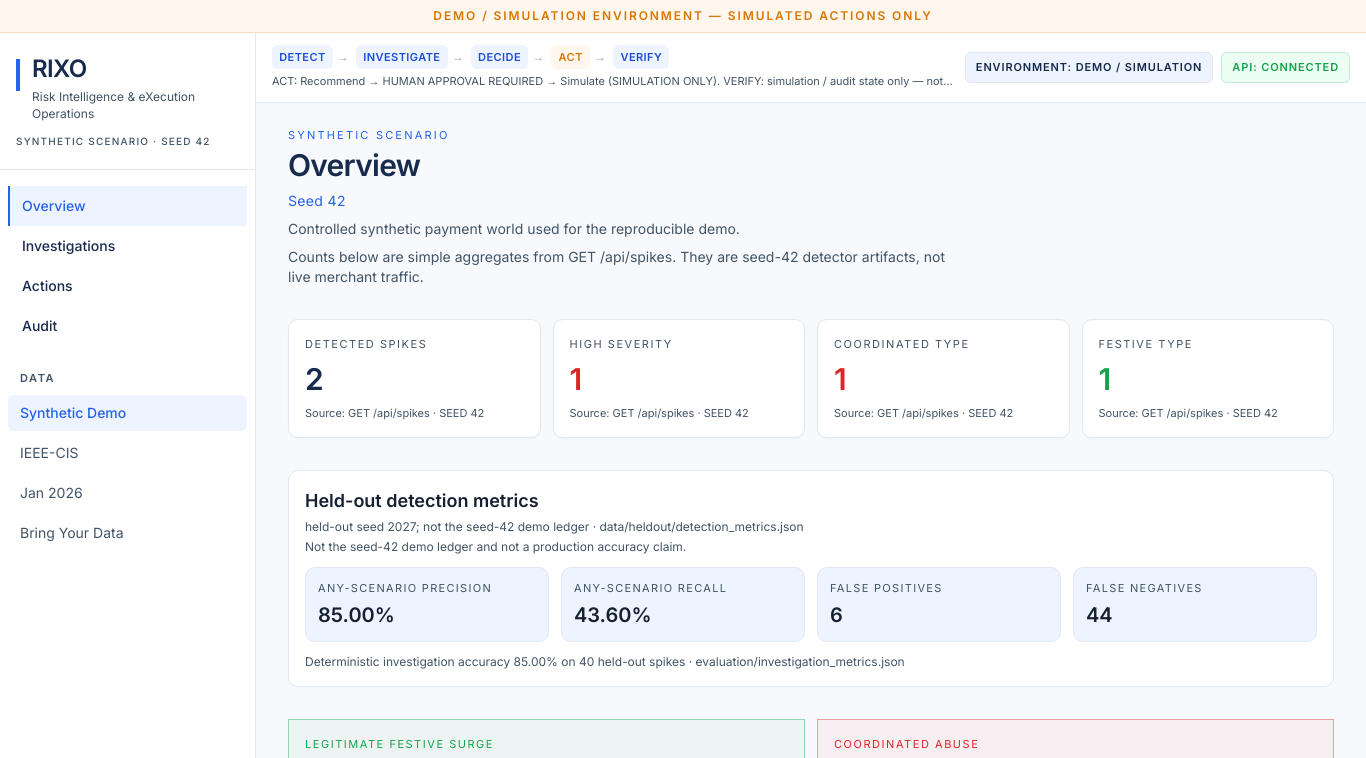
navigation opens investigations, actions, and audit
This screenshot has width=1366, height=758.
Expected: the heading "Overview" is shown, x1=288 y1=147 x2=420 y2=183
Click the link "Investigations": (69, 246) x1=22 y1=237 x2=115 y2=254
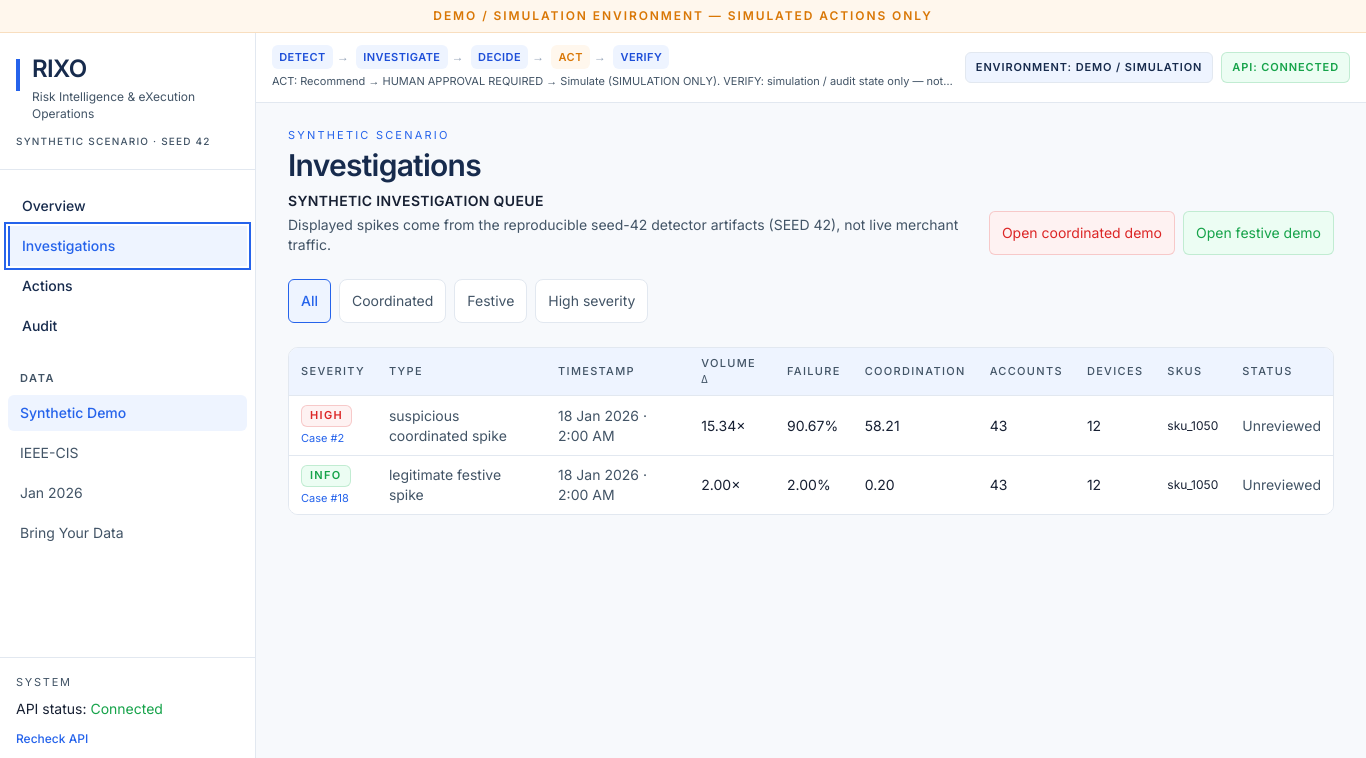
Now the heading "Investigations" is shown, box x1=288 y1=147 x2=481 y2=183
Now the text "Synthetic investigation queue" is shown, box x1=288 y1=192 x2=544 y2=209
Click the link "Actions": (47, 286) x1=22 y1=277 x2=73 y2=294
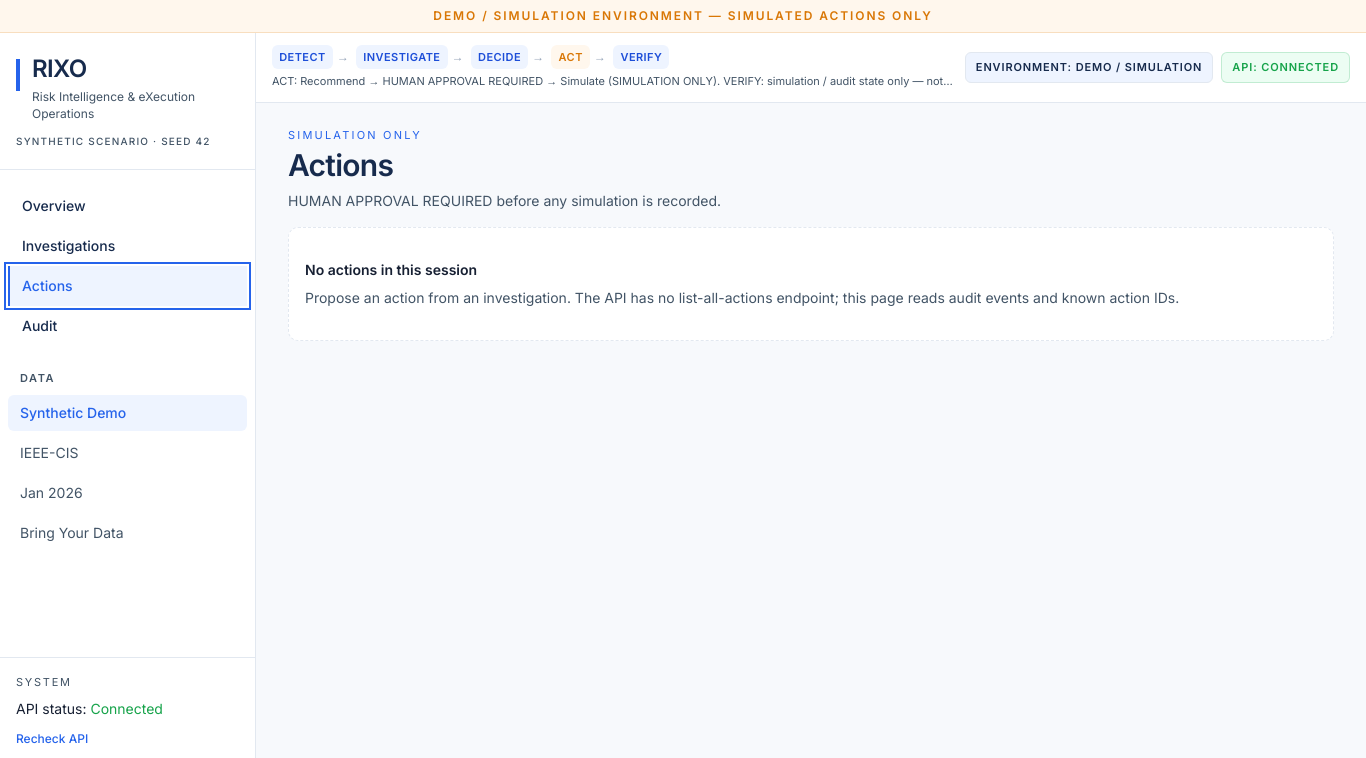
Expected: the text "SIMULATION ONLY" is shown, x1=272 y1=74 x2=1089 y2=88
Now the heading "Actions" is shown, box x1=288 y1=147 x2=393 y2=183
Click the link "Audit": (40, 326) x1=22 y1=317 x2=57 y2=334
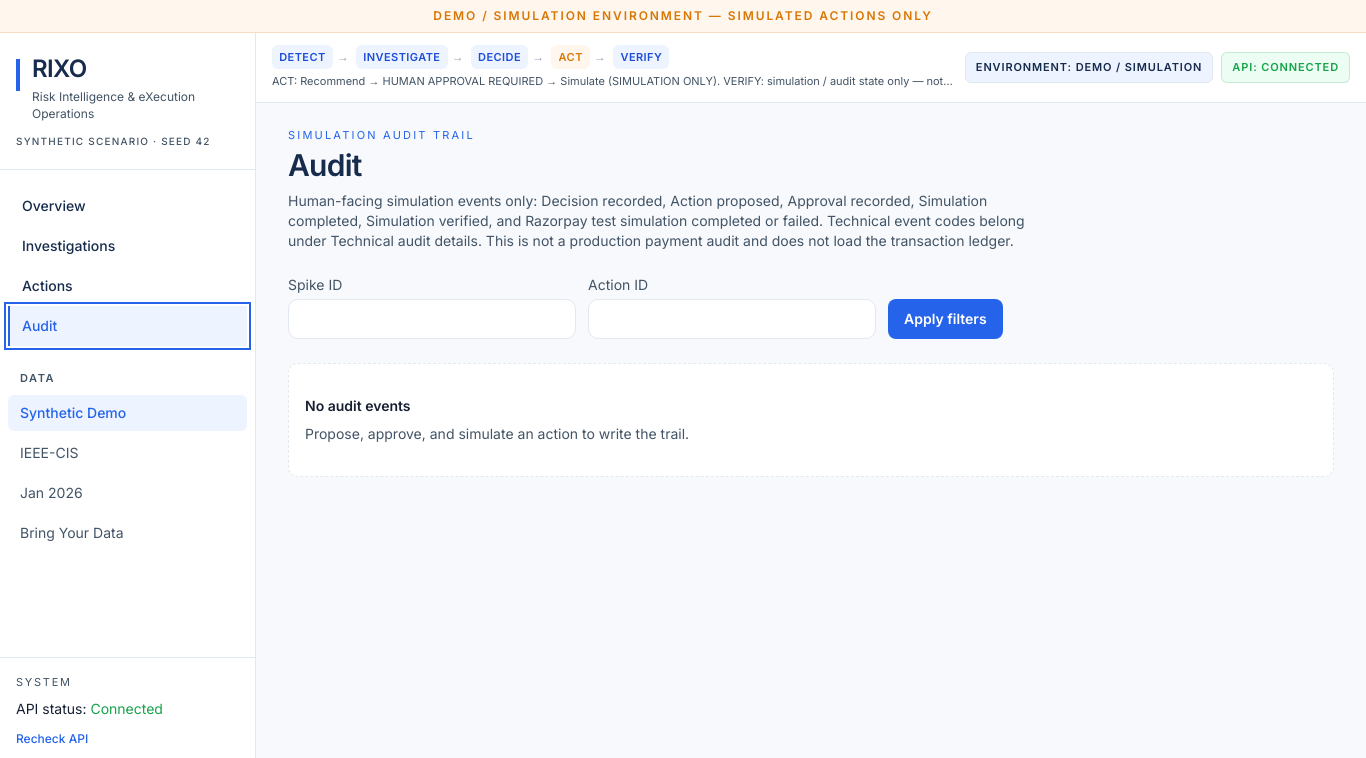
Now the heading "Audit" is shown, box x1=288 y1=147 x2=362 y2=183
Now the text "SIMULATION AUDIT TRAIL" is shown, box x1=288 y1=128 x2=475 y2=142
Click the link "IEEE-CIS": (49, 452) x1=20 y1=444 x2=78 y2=460
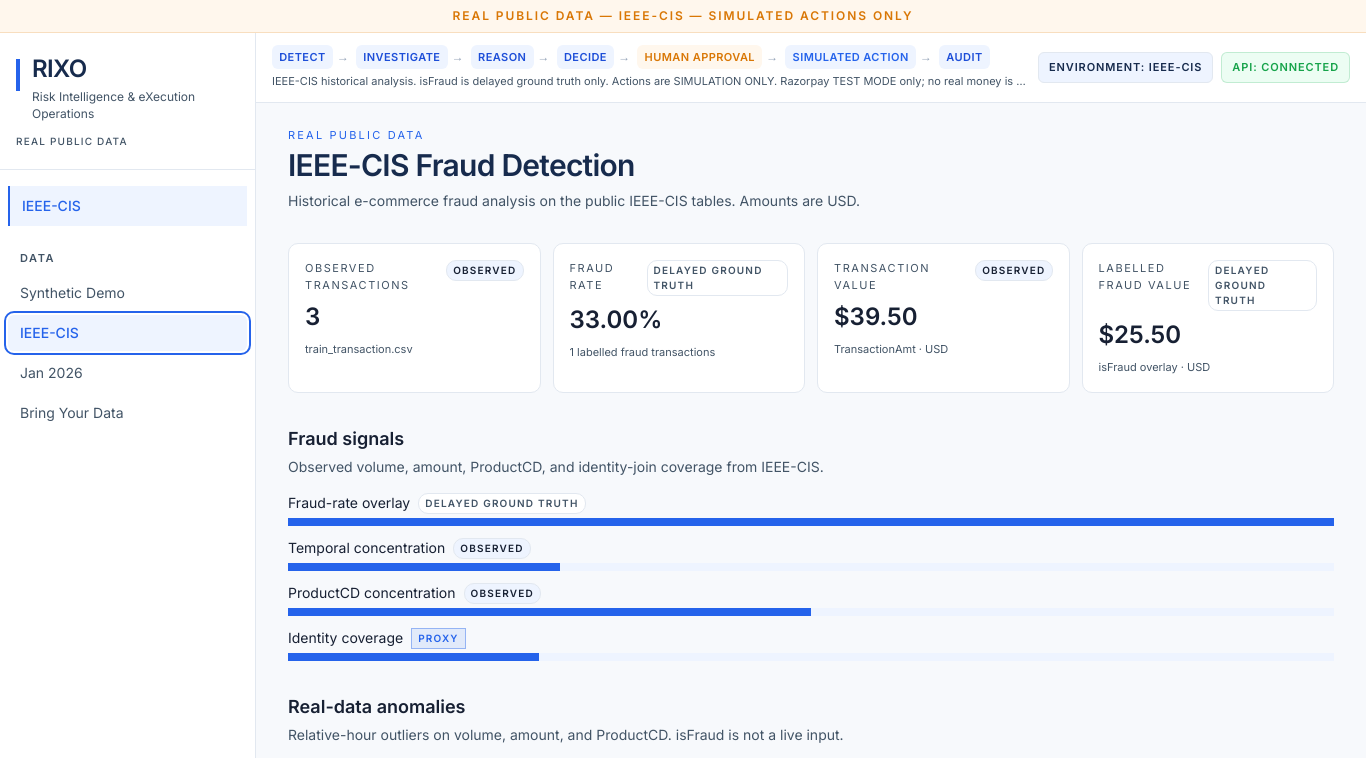
Now the heading "IEEE-CIS Fraud Detection" is shown, box x1=288 y1=147 x2=635 y2=183
Now the text "REAL PUBLIC DATA — IEEE-CIS — SIMULATED ACTIONS ONLY" is shown, box x1=0 y1=0 x2=1365 y2=33
Now the text "SYNTHETIC SCENARIO" is gone
Click the link "Jan 2026": (51, 372) x1=20 y1=364 x2=83 y2=380
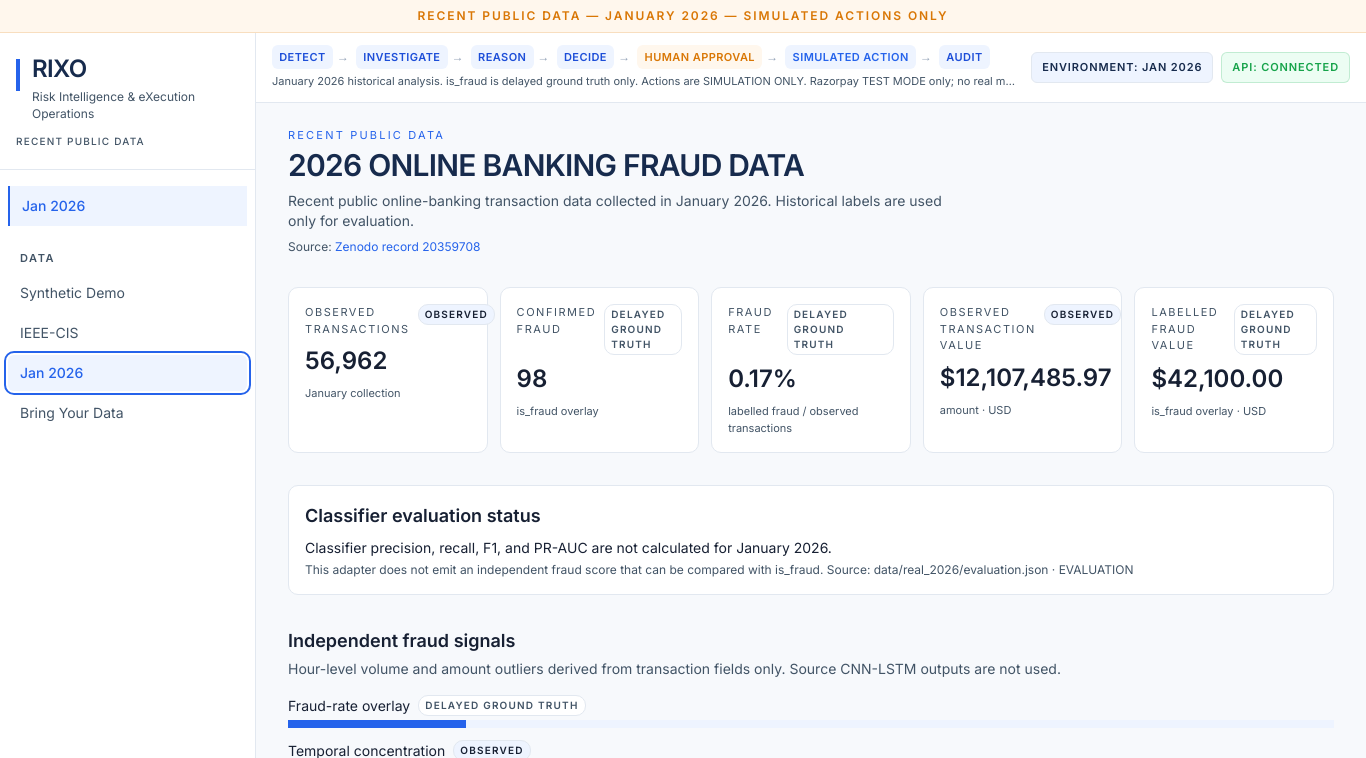
Expected: the text "SYNTHETIC SCENARIO" is not shown
Now the heading "2026 ONLINE BANKING FRAUD DATA" is shown, box x1=288 y1=147 x2=804 y2=183
Now the text "RECENT PUBLIC DATA — January 2026 — SIMULATED ACTIONS ONLY" is shown, box x1=0 y1=0 x2=1365 y2=33
Click the link "Bring Your Data": (72, 412) x1=20 y1=404 x2=124 y2=420
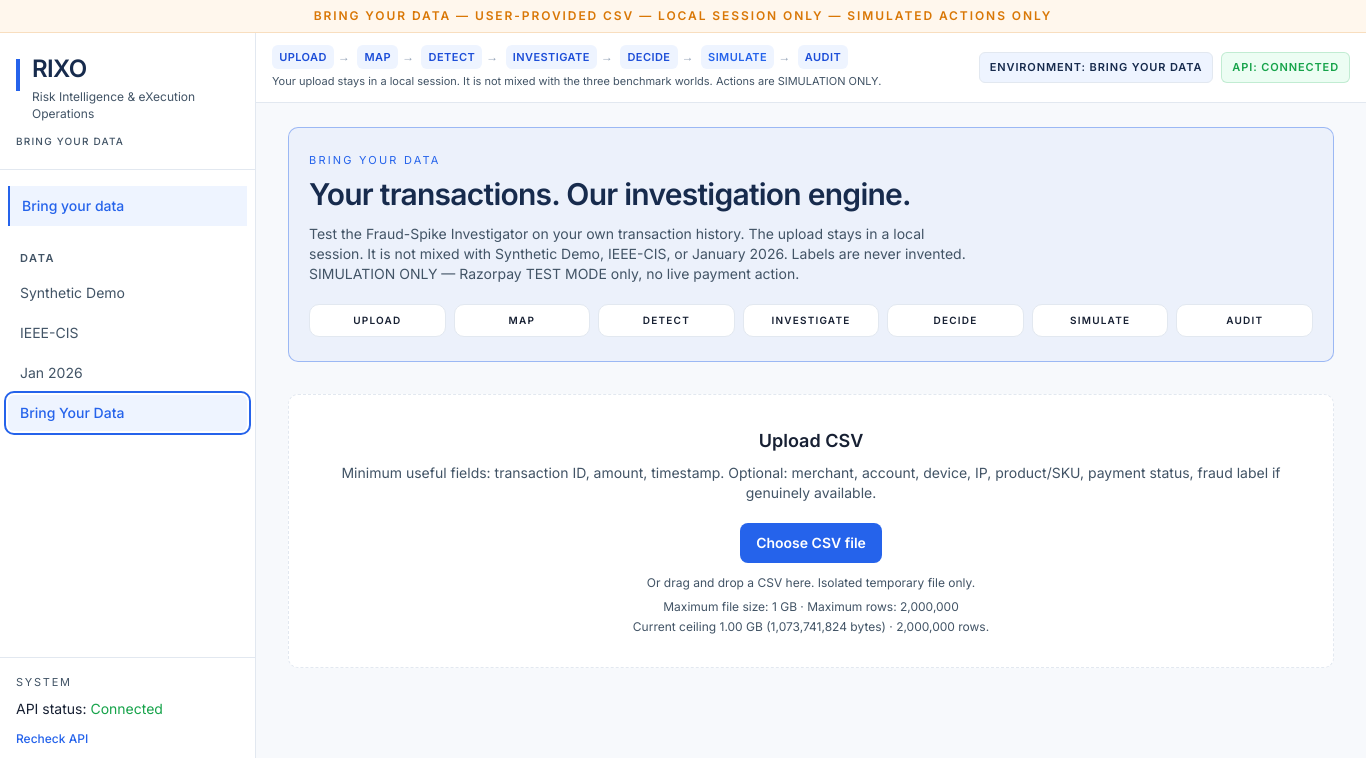
Expected: the text "SYNTHETIC SCENARIO" is not shown
Now the heading "Your transactions. Our investigation engine." is shown, box x1=309 y1=176 x2=911 y2=212
Now the text "BRING YOUR DATA — user-provided CSV" is shown, box x1=314 y1=8 x2=1052 y2=23
